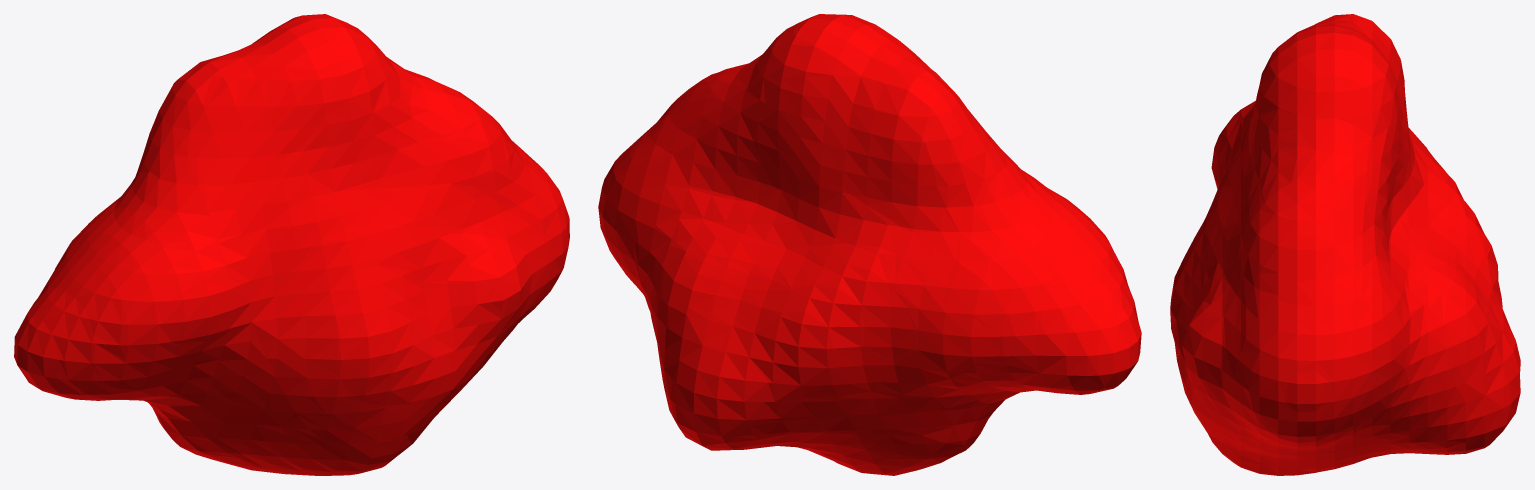
File: cedA_coarse.dae
3 views of the same model, side by side, from view 1: azimuth 30°, elevation 25°; view 2: azimuth 150°, elevation 25°; view 3: azimuth 270°, elevation 25° (orthographic).
Visible parts, largest first — view 1: cedA; view 2: cedA; view 3: cedA.
Part boxes in pixels (box(x1,y1,x2,y2)): cedA: box(14, 14, 569, 475); cedA: box(598, 14, 1141, 475); cedA: box(1170, 14, 1520, 475).
Size of the model in its own units: 45.62 by 35.77 by 25.93.
